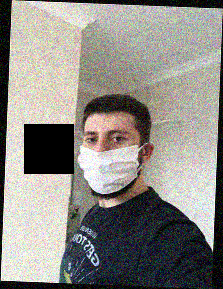with_mask: (77, 120, 139, 201)
